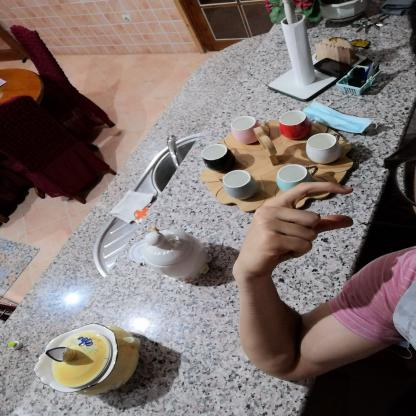DELL: (222, 168, 369, 286)
